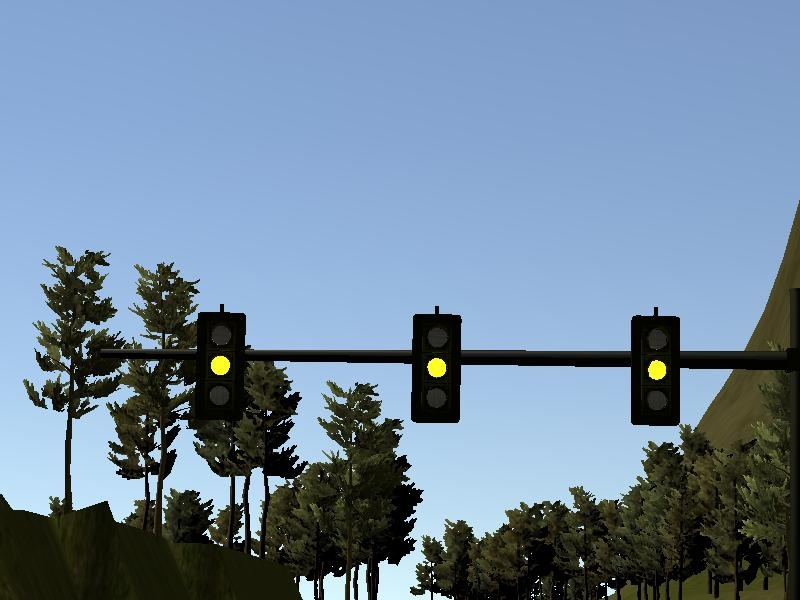YELLOW: (409, 311, 463, 424), (191, 309, 245, 422), (632, 313, 681, 427)
